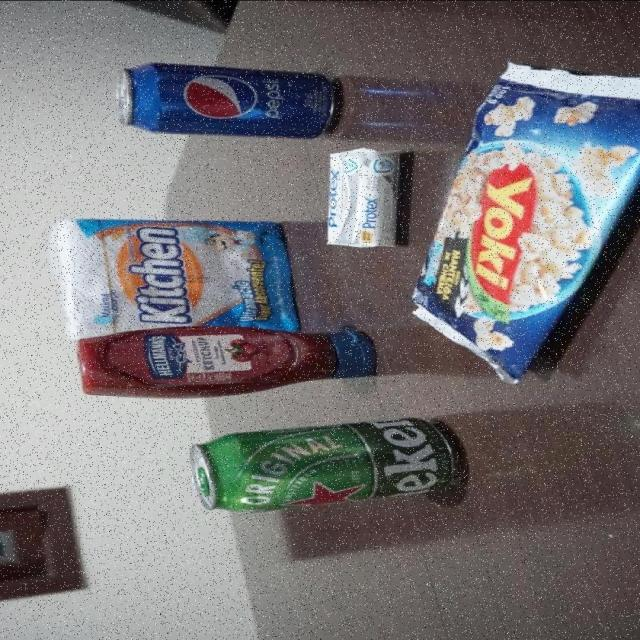BeerCan: (189, 416, 465, 515)
Ketchup: (74, 322, 383, 403)
Napkin: (43, 213, 311, 337)
Popcorn: (411, 58, 640, 384)
Soap: (323, 147, 406, 251)
SodaCan: (114, 61, 341, 140)
